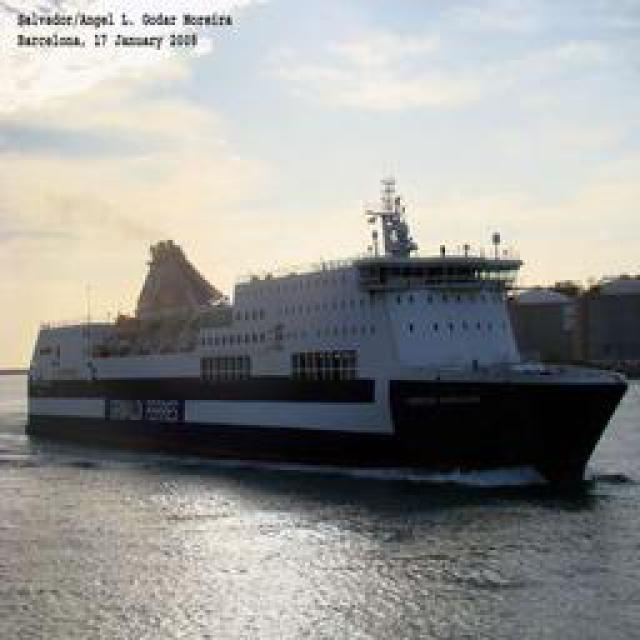Ship: (27, 163, 627, 488)
